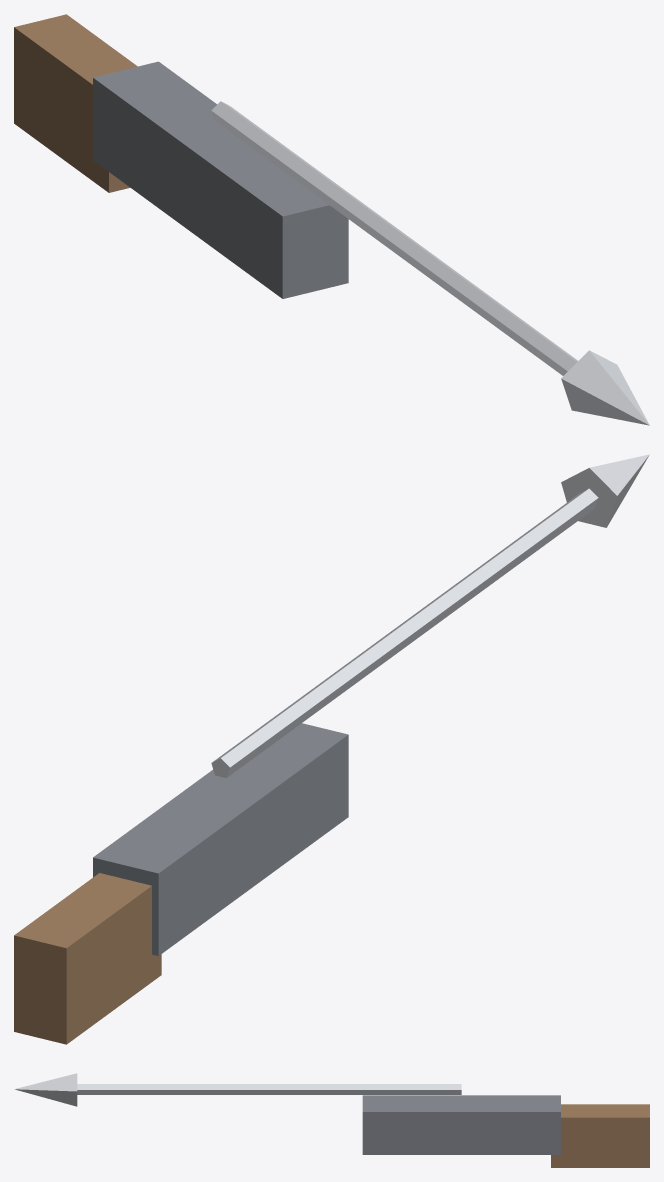
Rendered from HarpoonGun.fbx.
3 renders of one model, top to bottom at view 1: azimuth 30°, elevation 25°; view 2: azimuth 150°, elevation 25°; view 3: azimuth 270°, elevation 25°, orthographic. The views are drawn at different scales.
Visible parts, largest first — view 1: Body; view 2: Body; view 3: Body.
Boxes of the visible parts, x1,y1,x2,y2 form: Body: [14, 14, 649, 425]; Body: [14, 454, 649, 1044]; Body: [14, 1073, 649, 1167].
Bounding box in the file's own units: 0.1 × 0.245 × 1.61.
